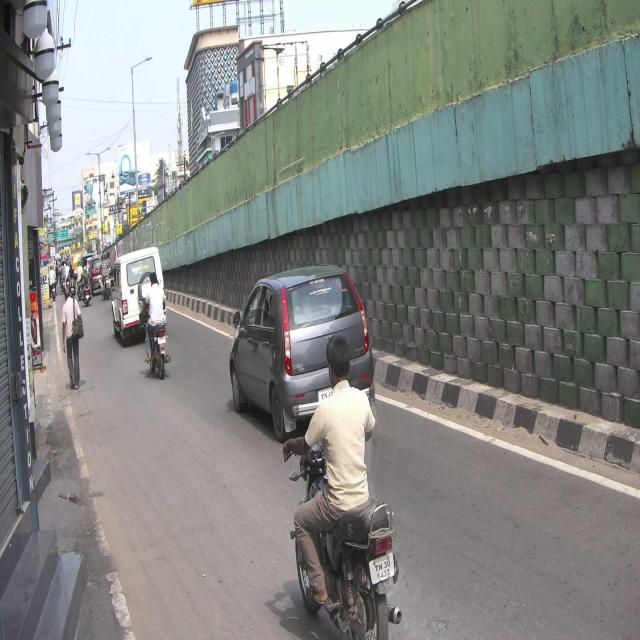single_rider: (282, 332, 403, 640)
